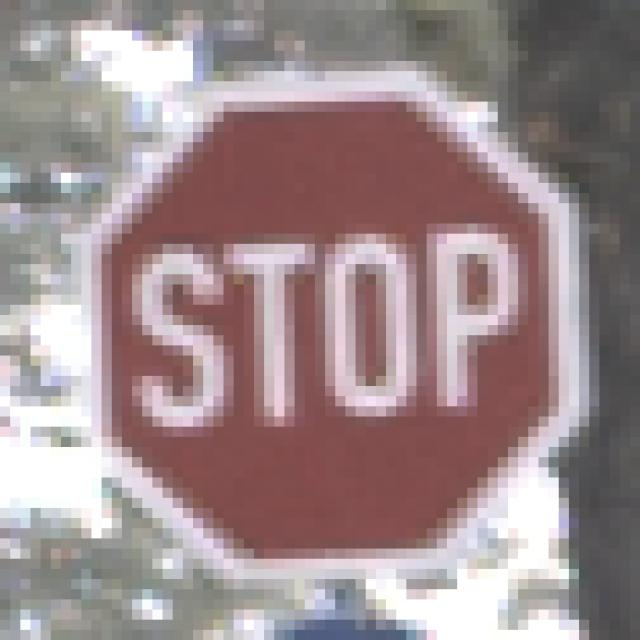STOP: (62, 62, 590, 590)
